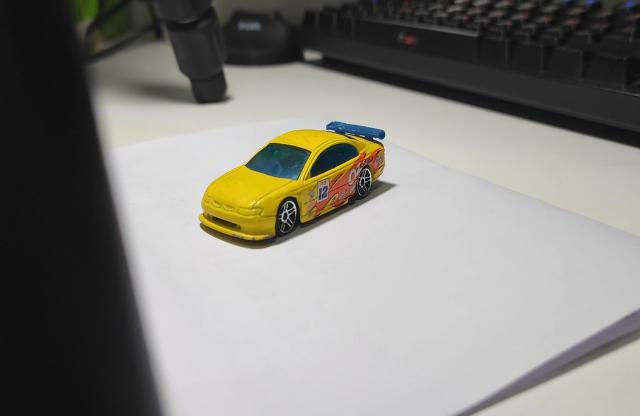02_OZSOME: (198, 122, 386, 250)
